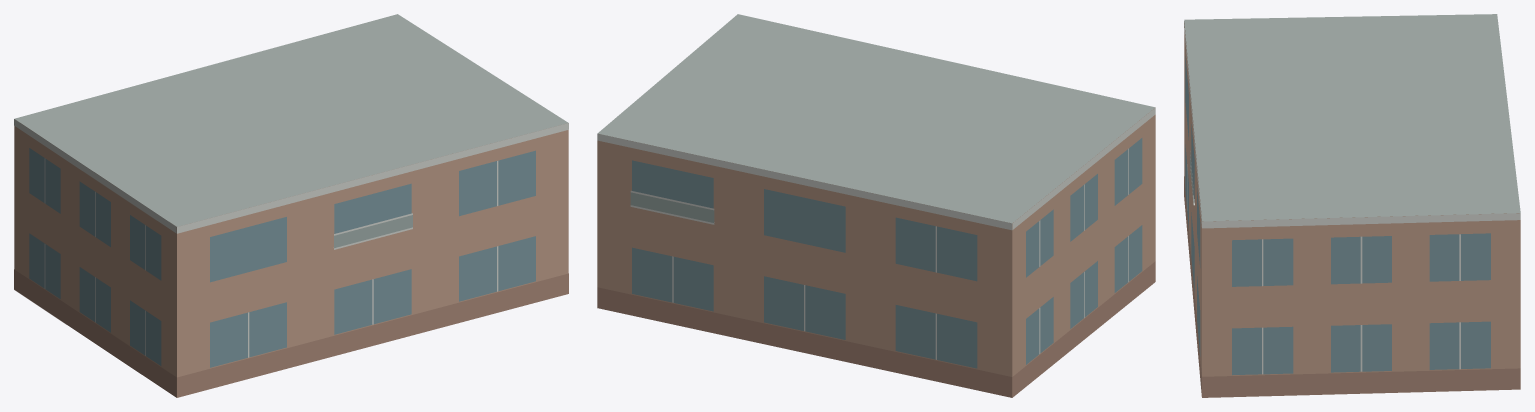
File: survey-upis-32994374.glb
3 views of the same model, side by side, from view 1: azimuth 30°, elevation 25°; view 2: azimuth 150°, elevation 25°; view 3: azimuth 270°, elevation 25° (orthographic). The views are drawn at different scales.
Parts seen in each view (by area): view 1: survey-upis-32994374.tmp; view 2: survey-upis-32994374.tmp; view 3: survey-upis-32994374.tmp.
Boxes of the visible parts, x1,y1,x2,y2 form: survey-upis-32994374.tmp: (14,14,568,397); survey-upis-32994374.tmp: (597,14,1155,397); survey-upis-32994374.tmp: (1184,14,1520,397).
Bounding box in the file's own units: 15.39 × 6.1 × 10.55.
